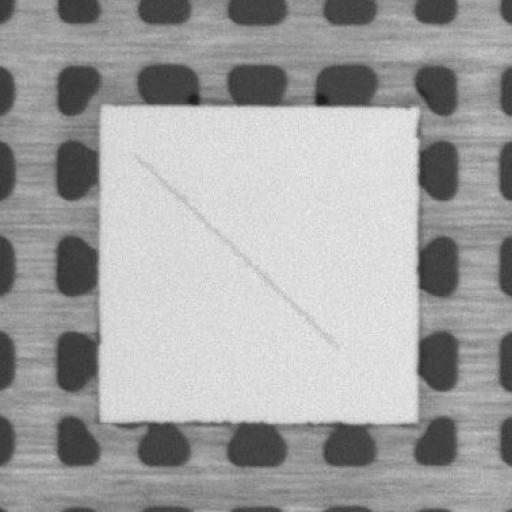DIE_CRACK: (134, 154, 336, 347)
